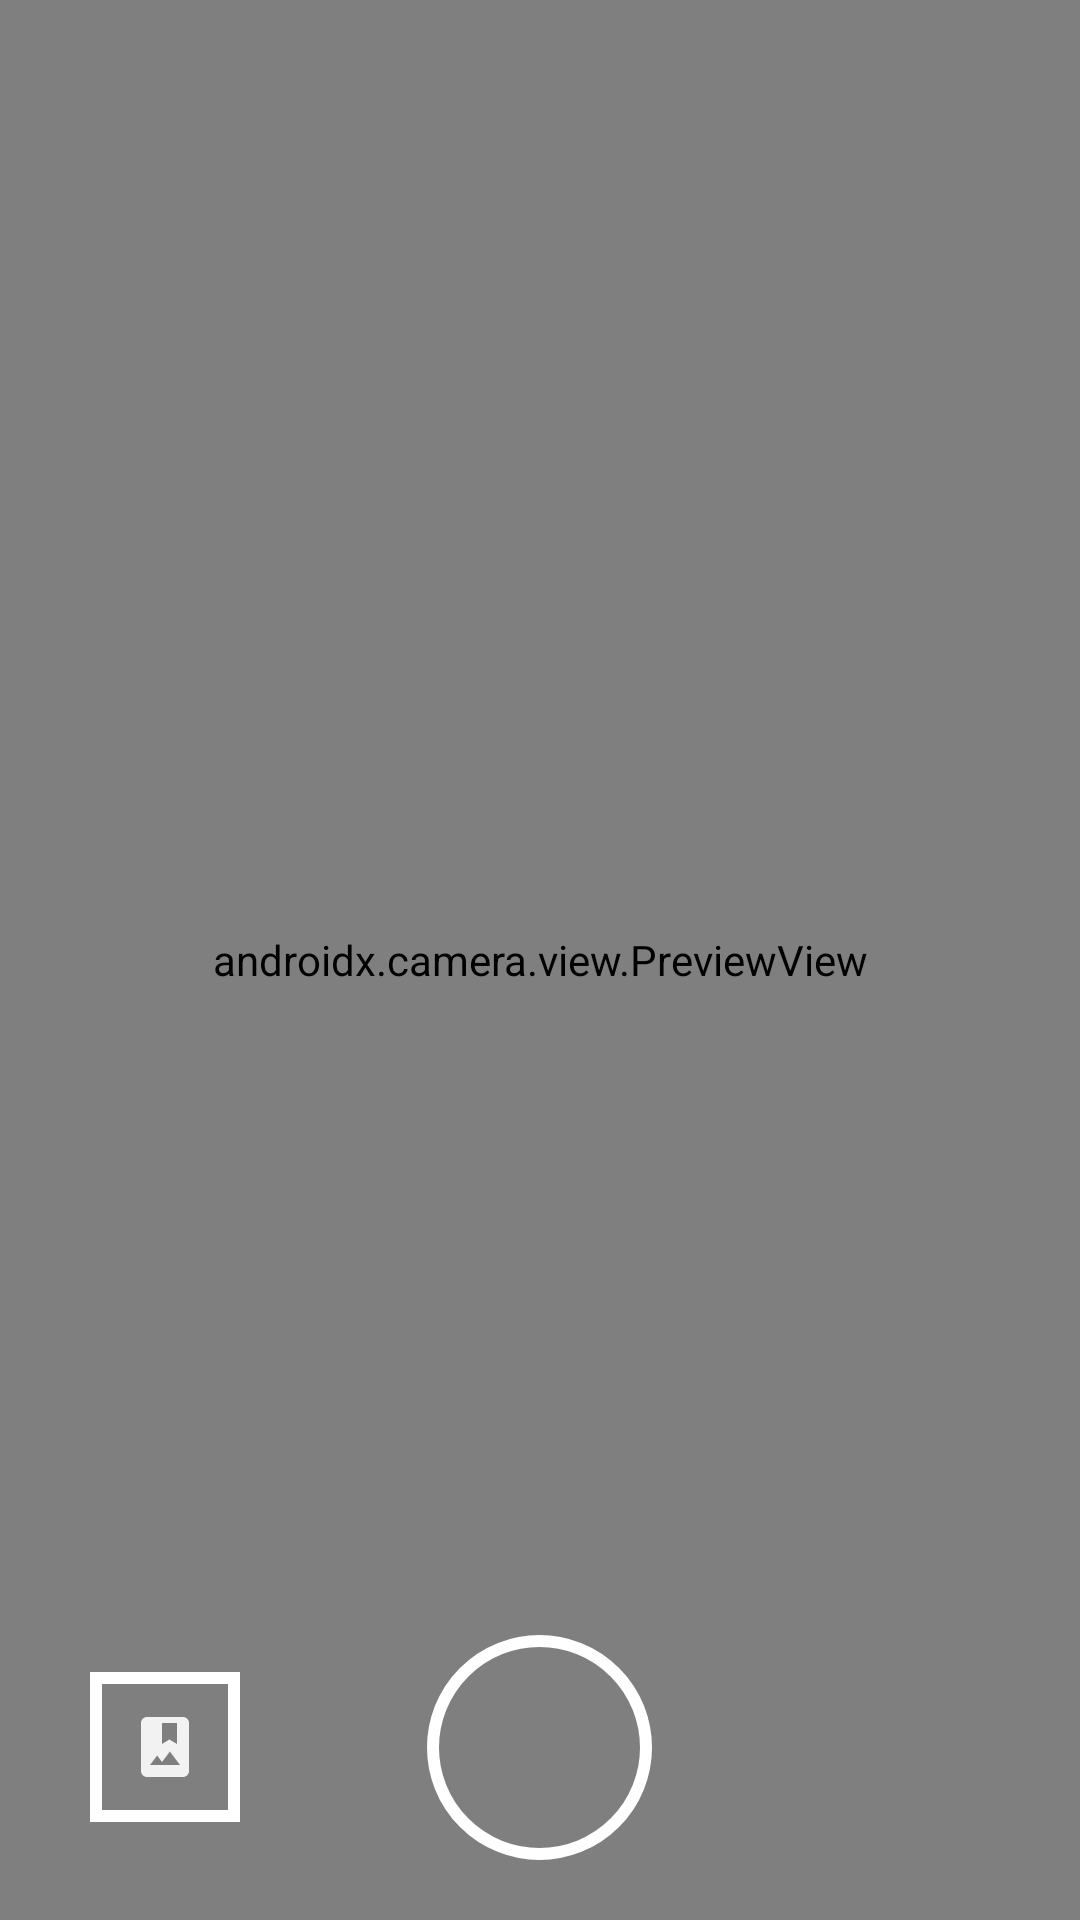

Named icons in this screenshot (1080x1920) and their bounding boxes, BBox(x1, y1, x2, y2):
photo album: BBox(90, 1672, 240, 1822)
